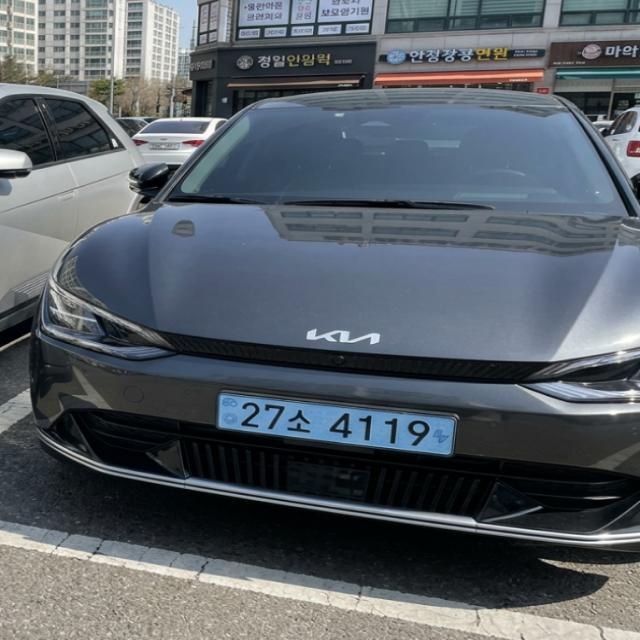car: (198, 383, 475, 470)
carev: (428, 411, 456, 460), (215, 386, 240, 434)
